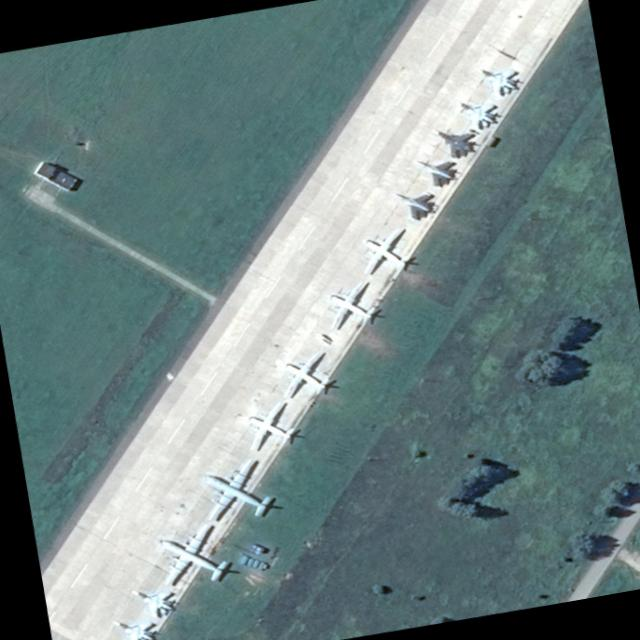plane: (184, 441, 288, 534), (141, 508, 245, 601), (345, 215, 423, 284), (314, 269, 386, 336), (235, 391, 307, 458), (269, 339, 341, 405), (468, 50, 530, 102), (425, 113, 488, 162), (448, 83, 509, 133), (386, 179, 443, 224), (124, 576, 183, 619), (408, 145, 463, 191), (105, 605, 164, 640)
